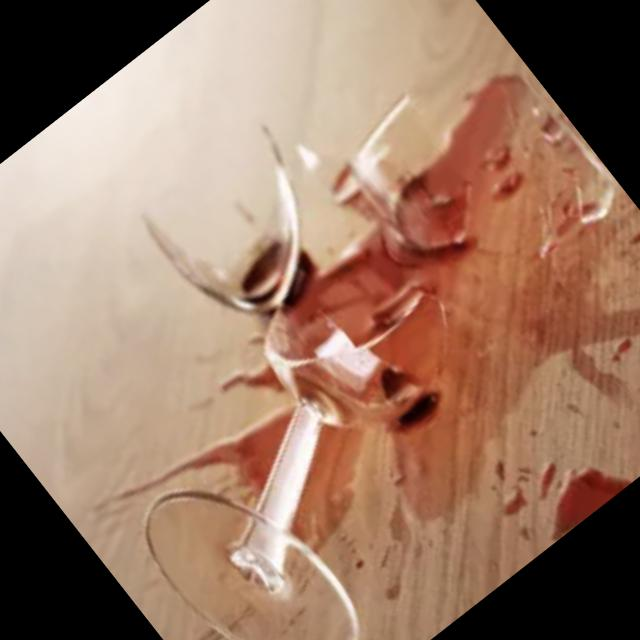PecahanKaca: (0, 0, 640, 640), (68, 216, 583, 640)
